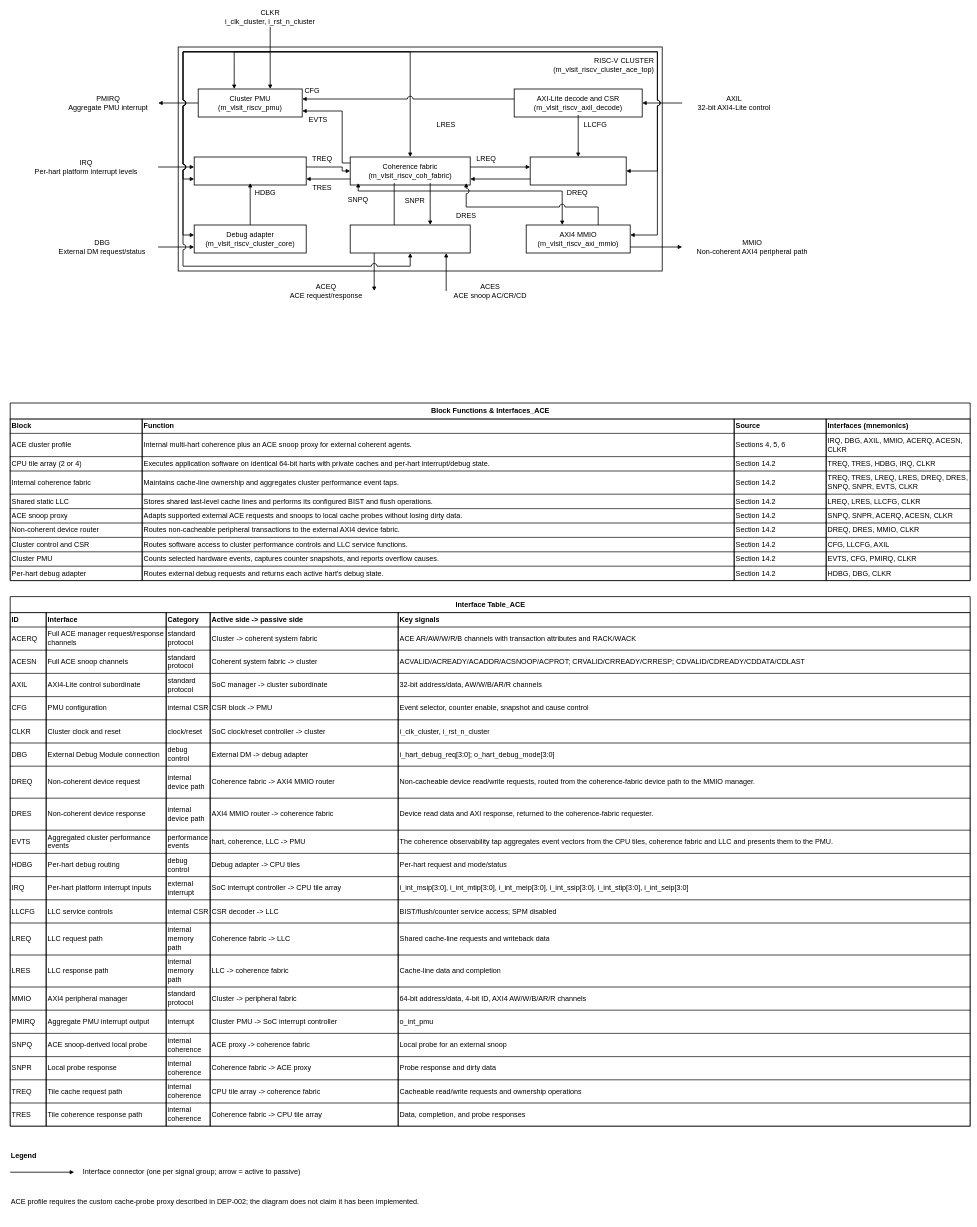
Image size: 977x1227. Some labels were removed from this diagram. The shapes that lost their labels are listed below. From the top down, each one's centre as x and y in pixels, then its label:
At point (250, 170): "CPU tile array (m_vlsit_riscv_cpu_tile)".
At point (578, 170): "Shared LLC (m_vlsit_axi_llc)".
At point (410, 238): "ACE proxy (m_vlsit_riscv_ace_proxy)".
